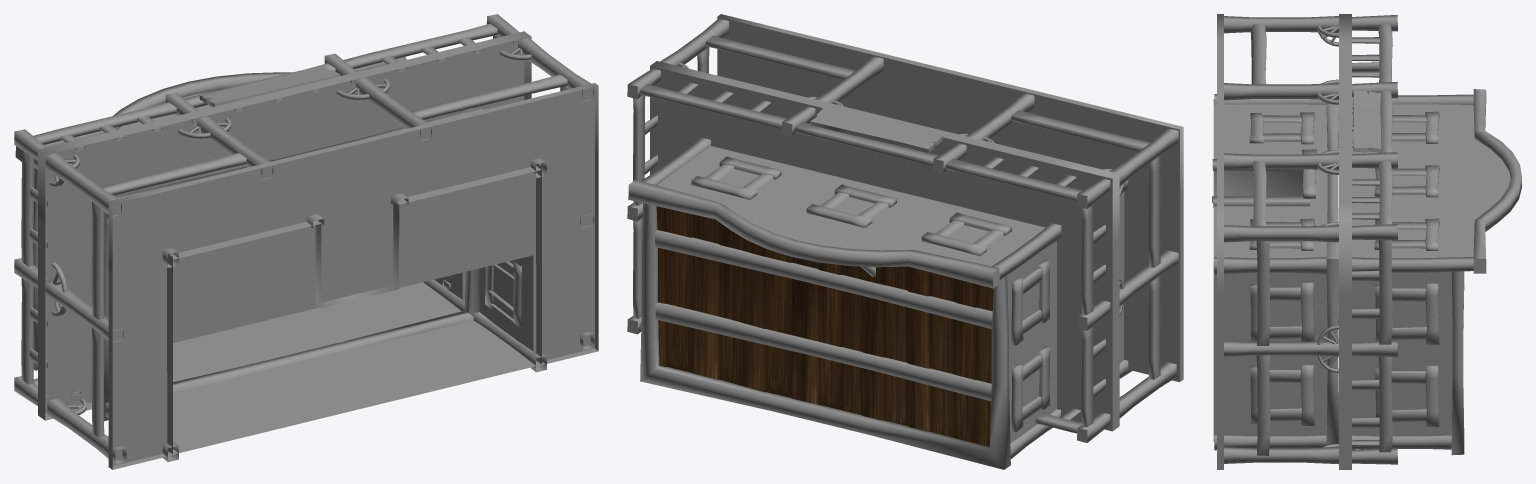
Rendered from City_Saloon_01.FBX.
3 renders of one model, left to right at view 1: azimuth 30°, elevation 25°; view 2: azimuth 150°, elevation 25°; view 3: azimuth 270°, elevation 25°, orthographic. The views are drawn at different scales.
Parts seen in each view (by area): view 1: City_Saloon_ground, City_Saloon_2nd_Floor, City_Saloon_Right, City_Saloon_Left, City_Saloon_Entrance, City_Saloon_panel; view 2: City_Saloon_2nd_Floor, City_Building_roof_002, City_Saloon_ground, City_Saloon_Left, City_Saloon_Right, City_Saloon_panel; view 3: City_Saloon_2nd_Floor, City_Saloon_Right, City_Saloon_Left, City_Saloon_Entrance, City_Saloon_ground, City_Saloon_panel.
Boxes of the visible parts, x1,y1,x2,y2 form: City_Saloon_ground: (108, 83, 598, 469); City_Saloon_2nd_Floor: (14, 14, 531, 421); City_Saloon_Right: (336, 37, 594, 398); City_Saloon_Left: (45, 116, 315, 464); City_Saloon_Entrance: (253, 193, 420, 419); City_Saloon_panel: (199, 66, 340, 106); City_Saloon_2nd_Floor: (627, 61, 1119, 469); City_Building_roof_002: (656, 206, 993, 446); City_Saloon_ground: (717, 14, 1183, 382); City_Saloon_Left: (958, 93, 1178, 418); City_Saloon_Right: (660, 18, 883, 106); City_Saloon_panel: (810, 108, 942, 152); City_Saloon_2nd_Floor: (1263, 14, 1521, 469); City_Saloon_Right: (1213, 150, 1338, 464); City_Saloon_Left: (1213, 16, 1338, 154); City_Saloon_Entrance: (1212, 149, 1327, 211); City_Saloon_ground: (1217, 14, 1223, 469); City_Saloon_panel: (1353, 90, 1381, 152).
Bounding box in the file's own units: 13.67 × 7.43 × 8.32.
